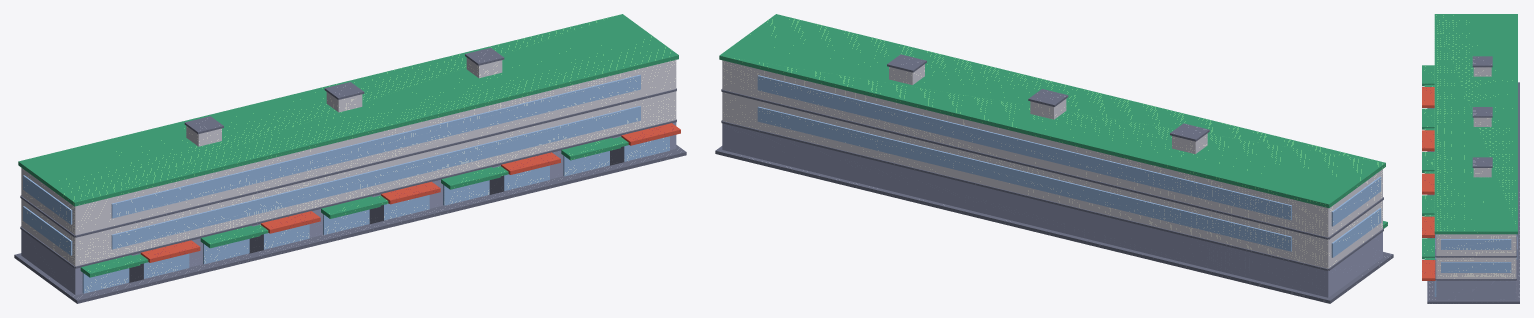
Rendered from com-5x1-l3.glb.
3 views of the same model, side by side, from view 1: azimuth 30°, elevation 25°; view 2: azimuth 150°, elevation 25°; view 3: azimuth 270°, elevation 25° (orthographic). The views are drawn at different scales.
Parts seen in each view (by area): view 1: com-5x1-l3; view 2: com-5x1-l3; view 3: com-5x1-l3.
Part boxes in pixels (<box>): com-5x1-l3: <box>14,14,686,303</box>; com-5x1-l3: <box>715,14,1393,303</box>; com-5x1-l3: <box>1422,14,1519,303</box>.
Bounding box in the file's own units: 9.86 × 1.74 × 1.86.
Materials: 1 (1 with a texture image).
